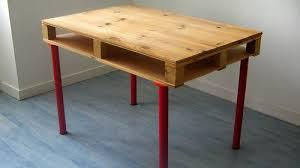wood: (41, 4, 267, 90)
